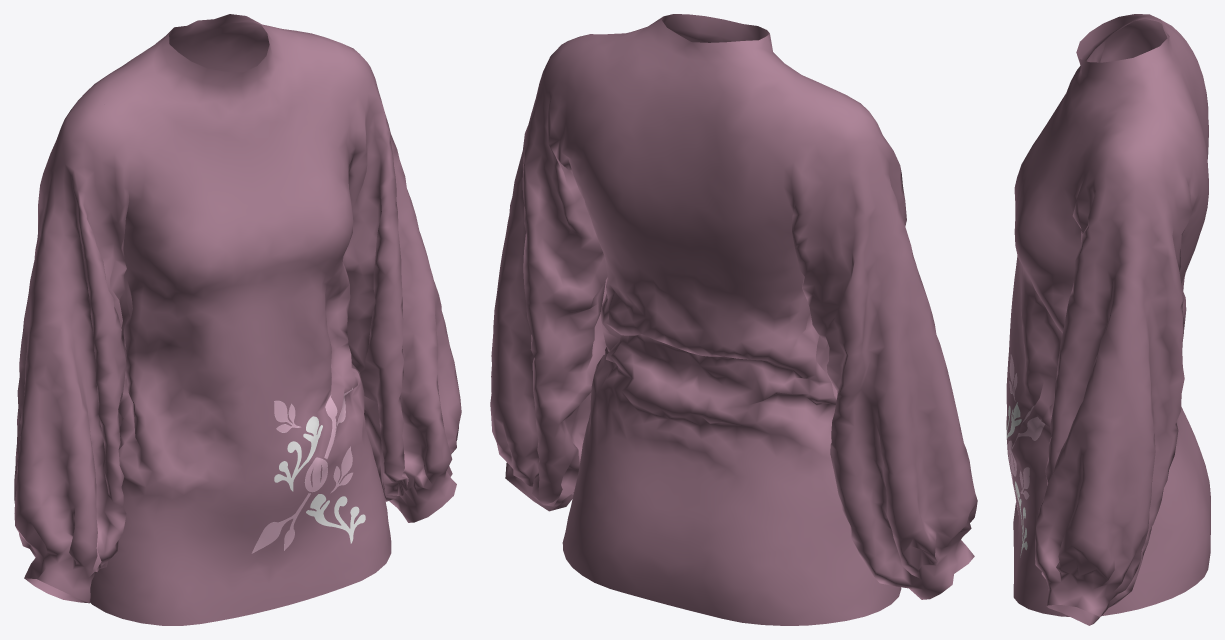
File: Blouse 3D.glb
3 renders of one model, left to right at view 1: azimuth 30°, elevation 25°; view 2: azimuth 150°, elevation 25°; view 3: azimuth 270°, elevation 25°, orthographic. The views are drawn at different scales.
Visible parts, largest first — view 1: Pattern2D_356568_Node, Pattern2D_1339727_Node, Pattern2D_1339726_Node, Pattern2D_356570_Node, MatShape_9188_Node, Pattern2D_1472592_Node, Pattern2D_1512220_Node, Pattern2D_1472591_Node, Pattern2D_1507722_Node; view 2: Pattern2D_356570_Node, Pattern2D_1339727_Node, Pattern2D_1339726_Node, Pattern2D_1507722_Node, Pattern2D_1472592_Node, Pattern2D_1512220_Node, Pattern2D_356568_Node; view 3: Pattern2D_1339726_Node, Pattern2D_356568_Node, Pattern2D_356570_Node, Pattern2D_1472591_Node, Pattern2D_1339727_Node, Pattern2D_1512220_Node, MatShape_9188_Node, Pattern2D_1507722_Node.
Part boxes in pixels (left/top/right/bottom): Pattern2D_356568_Node: left=90, top=27, right=391, bottom=625; Pattern2D_1339727_Node: left=14, top=92, right=129, bottom=571; Pattern2D_1339726_Node: left=327, top=38, right=461, bottom=501; Pattern2D_356570_Node: left=86, top=21, right=358, bottom=449; MatShape_9188_Node: left=251, top=388, right=365, bottom=553; Pattern2D_1472592_Node: left=24, top=547, right=96, bottom=603; Pattern2D_1512220_Node: left=155, top=24, right=272, bottom=86; Pattern2D_1472591_Node: left=389, top=466, right=456, bottom=522; Pattern2D_1507722_Node: left=154, top=14, right=260, bottom=52; Pattern2D_356570_Node: left=561, top=26, right=879, bottom=625; Pattern2D_1339727_Node: left=791, top=95, right=977, bottom=586; Pattern2D_1339726_Node: left=490, top=34, right=607, bottom=506; Pattern2D_1507722_Node: left=648, top=17, right=765, bottom=61; Pattern2D_1472592_Node: left=897, top=538, right=974, bottom=599; Pattern2D_1512220_Node: left=662, top=14, right=772, bottom=55; Pattern2D_356568_Node: left=581, top=28, right=901, bottom=610; Pattern2D_1339726_Node: left=1035, top=128, right=1191, bottom=602; Pattern2D_356568_Node: left=1006, top=18, right=1144, bottom=616; Pattern2D_356570_Node: left=1101, top=18, right=1210, bottom=616; Pattern2D_1472591_Node: left=1042, top=571, right=1117, bottom=625; Pattern2D_1339727_Node: left=1086, top=19, right=1167, bottom=62; Pattern2D_1512220_Node: left=1076, top=14, right=1142, bottom=79; MatShape_9188_Node: left=1006, top=354, right=1044, bottom=557; Pattern2D_1507722_Node: left=1133, top=14, right=1172, bottom=71.
Bounding box in the file's own units: 0.575 × 0.6646 × 0.2328.
3 materials, 1 textured.
